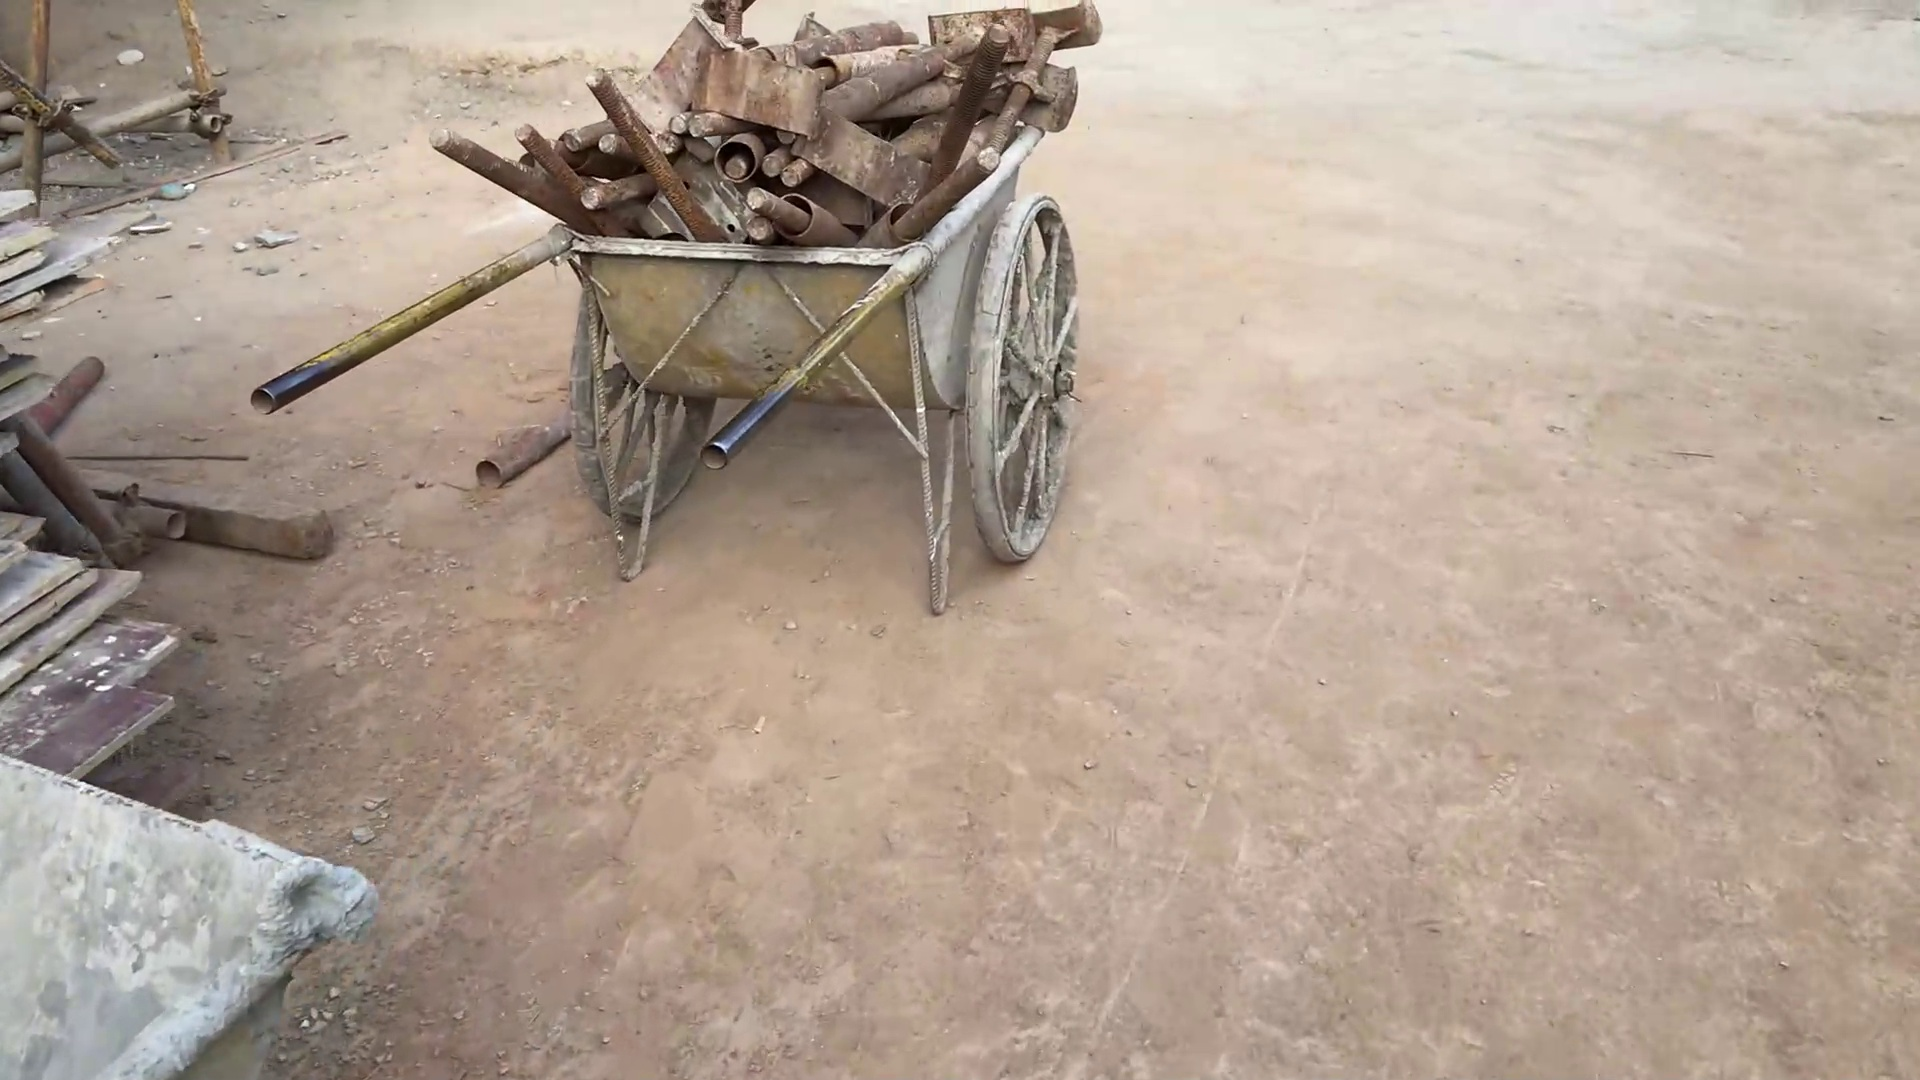handcart: (260, 156, 1100, 621)
